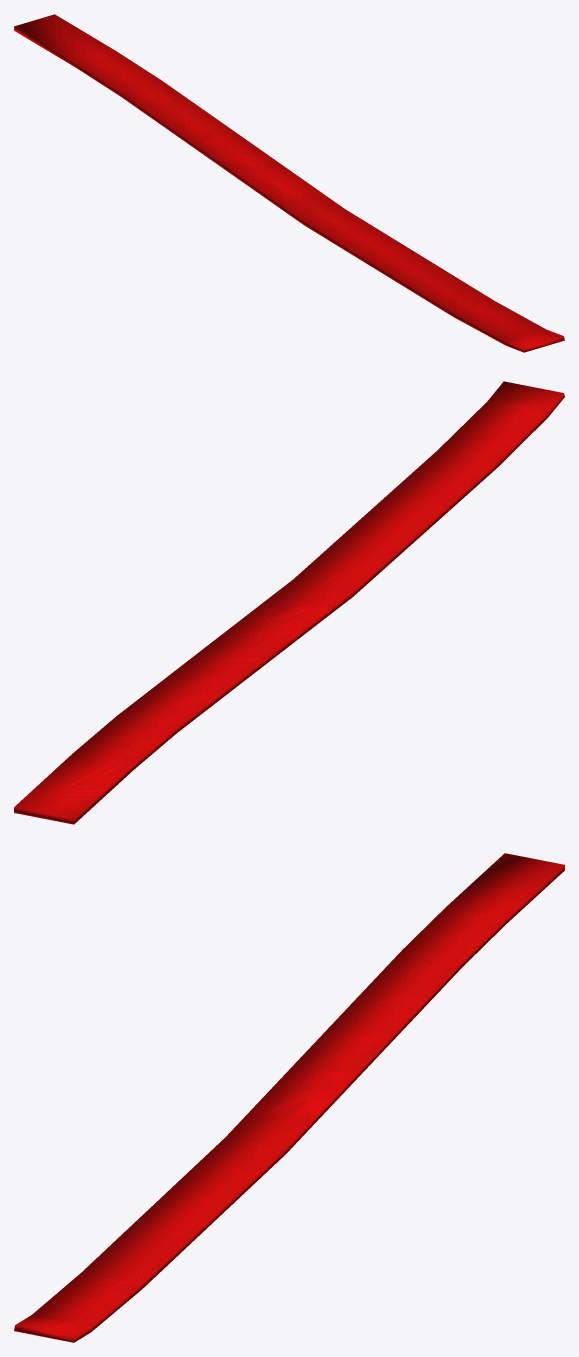
File: original-38.obj
3 views of the same model, one above another, from view 1: azimuth 30°, elevation 25°; view 2: azimuth 150°, elevation 25°; view 3: azimuth 330°, elevation 25° (orthographic). The views are drawn at different scales.
Visible parts, largest first — view 1: mesh33/mesh33-geometry#mesh33-geometry; view 2: mesh33/mesh33-geometry#mesh33-geometry; view 3: mesh33/mesh33-geometry#mesh33-geometry.
Part boxes in pixels (left/top/right/bottom): mesh33/mesh33-geometry#mesh33-geometry: left=14, top=14, right=564, bottom=352; mesh33/mesh33-geometry#mesh33-geometry: left=14, top=381, right=564, bottom=824; mesh33/mesh33-geometry#mesh33-geometry: left=14, top=853, right=564, bottom=1342.
Bounding box in the file's own units: 0.0891 × 0.021 × 0.6041.
